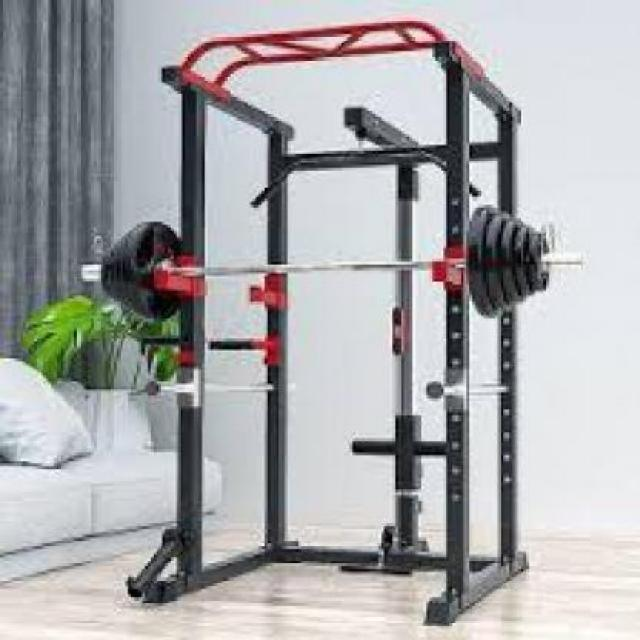smith machine: (126, 17, 543, 628)
